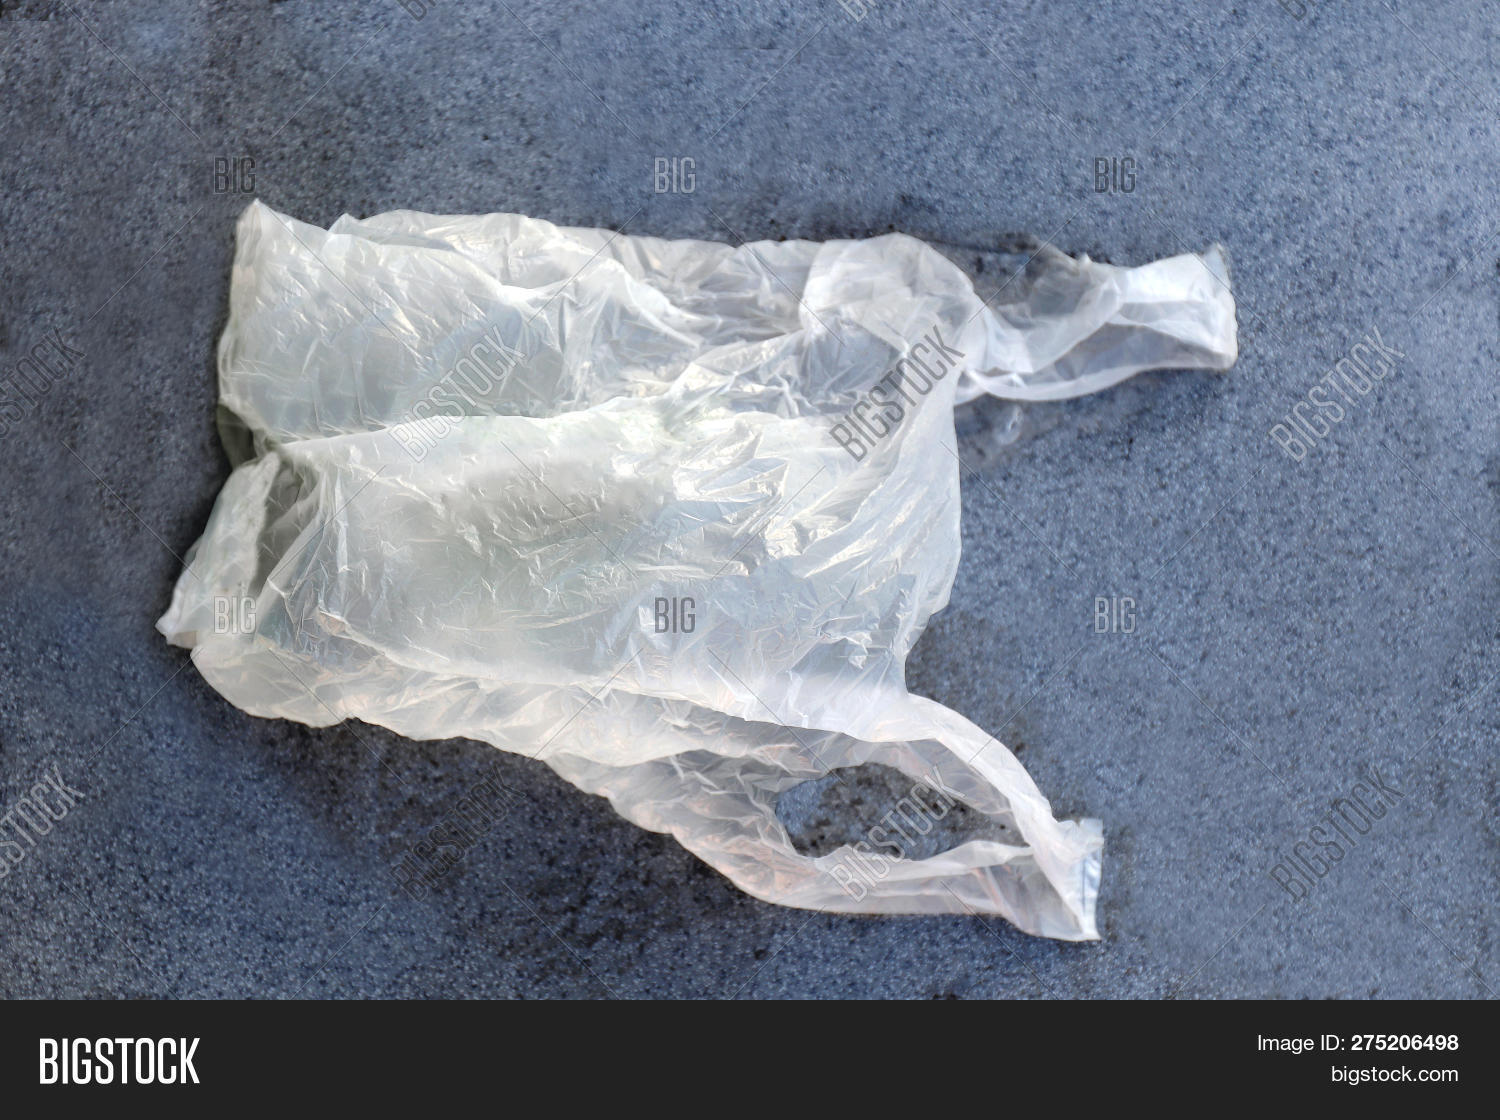plastic_bagwdw: (100, 116, 1288, 991)
